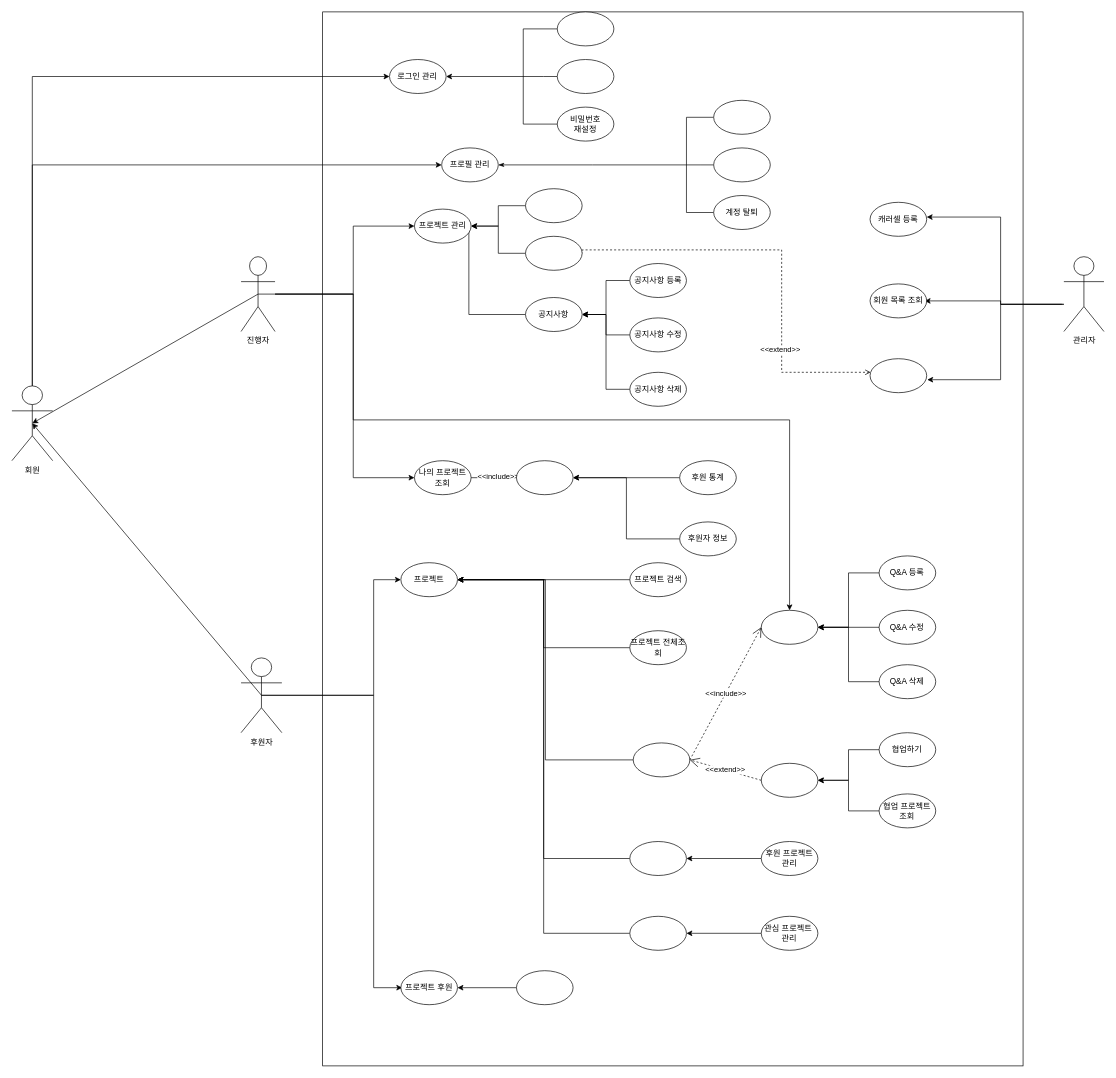
This 1116x1078 diagram has some shape labels left out. Each missing label, with the box of its shape:
ID 찾기: (557, 59, 614, 94)
Q&A: (761, 610, 818, 644)
관심 프로젝트 조회: (629, 916, 686, 950)
주문 결제: (516, 970, 573, 1005)
진행확인: (516, 460, 573, 495)
프로젝트 등록: (525, 236, 582, 270)
프로젝트 상세조회: (633, 742, 690, 777)
프로젝트 수정: (525, 188, 582, 223)
프로젝트 승인: (869, 358, 927, 393)
프로필 수정: (713, 147, 770, 182)
프로필 조회: (713, 100, 770, 134)
협업: (761, 763, 818, 797)
회원가입: (557, 11, 614, 46)
후원 프로젝트 조회: (629, 841, 686, 876)
